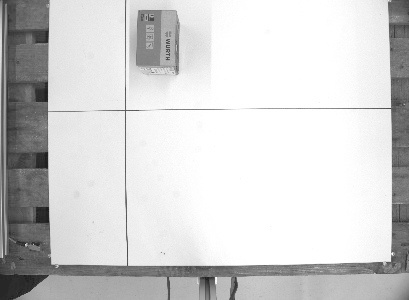b4: (133, 7, 181, 77)
